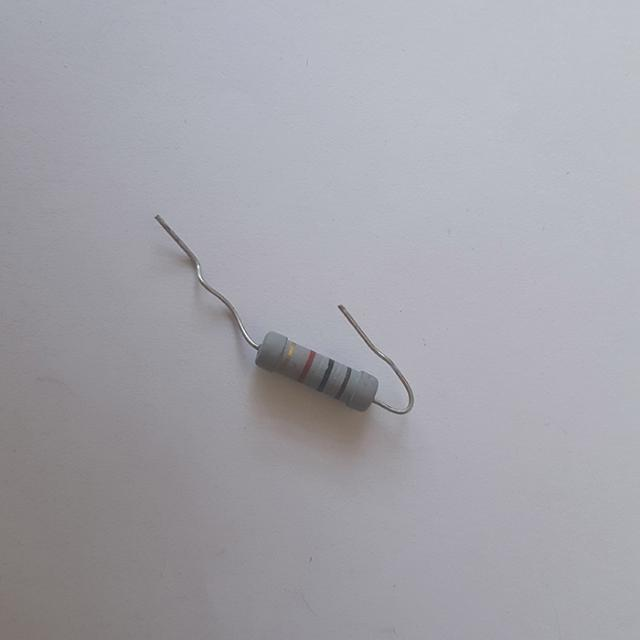black: (317, 357, 335, 390)
brown: (335, 367, 352, 398)
gold: (278, 341, 293, 373)
red: (296, 349, 315, 381)
resistor: (243, 323, 394, 432)
